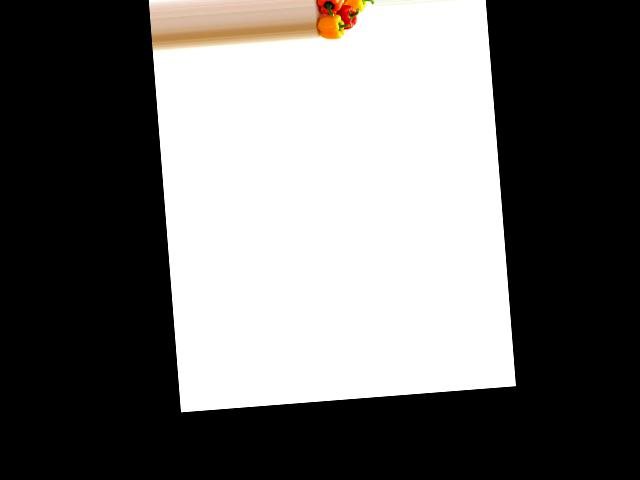bell_pepper: (315, 6, 349, 41)
